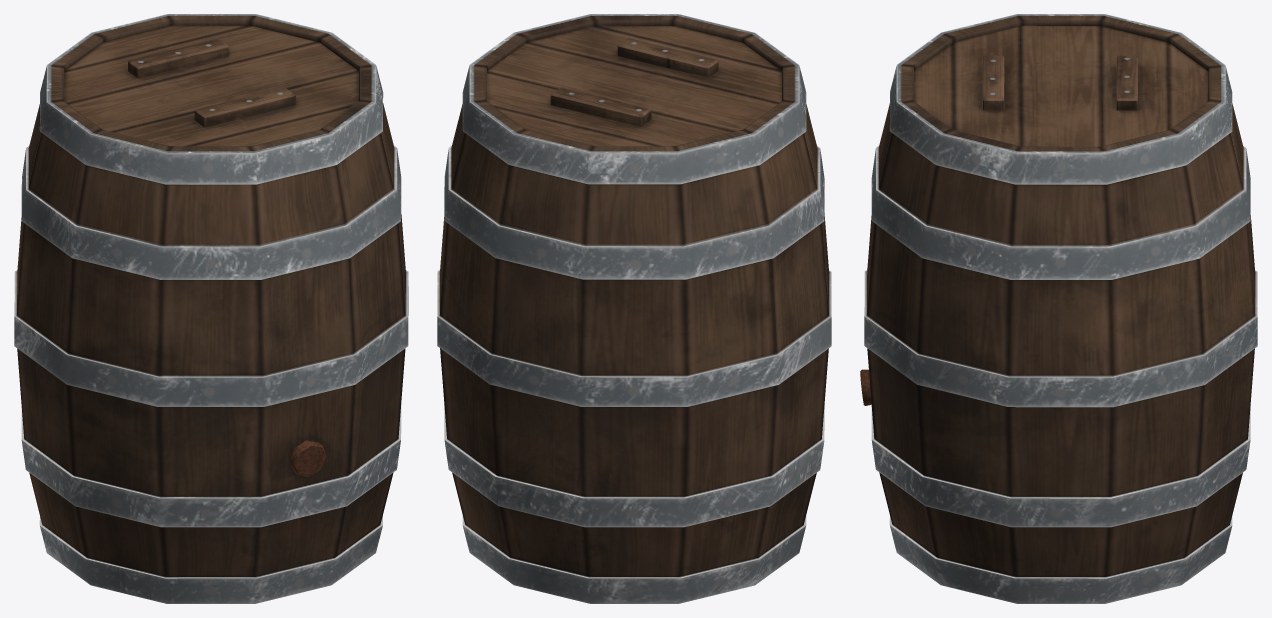
File: barrel.fbx
3 views of the same model, side by side, from view 1: azimuth 30°, elevation 25°; view 2: azimuth 150°, elevation 25°; view 3: azimuth 270°, elevation 25° (orthographic).
Visible parts, largest first — view 1: wooden_barrel; view 2: wooden_barrel; view 3: wooden_barrel.
Part boxes in pixels (x1,y1,x2,y2): wooden_barrel: (14, 14, 408, 603); wooden_barrel: (437, 14, 831, 603); wooden_barrel: (860, 14, 1257, 603).
Size of the model in its own units: 71.41 by 91.35 by 71.99.
1 material, 1 textured.
